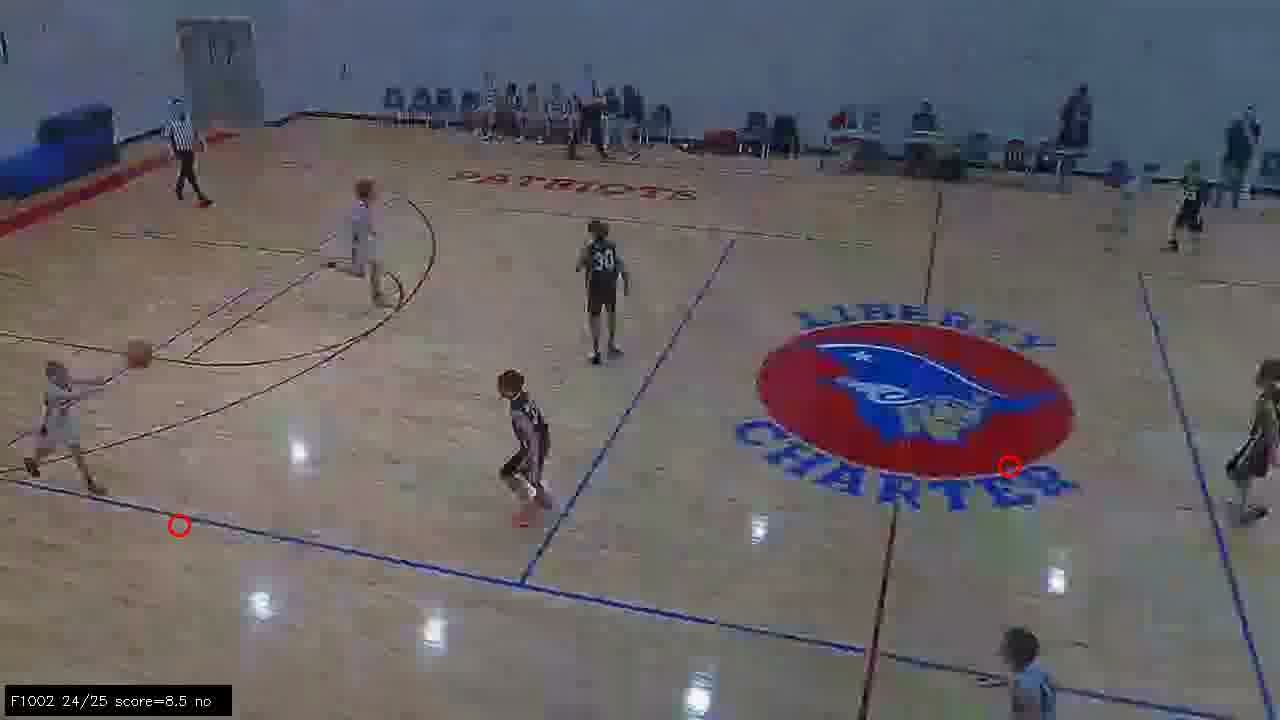ball: (522, 495, 546, 545)
